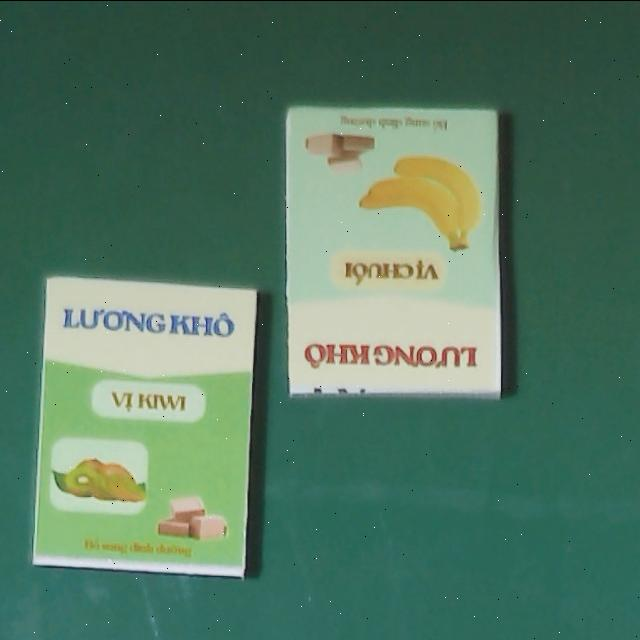chuoi: (284, 104, 500, 397)
kiwi: (32, 277, 257, 577)
